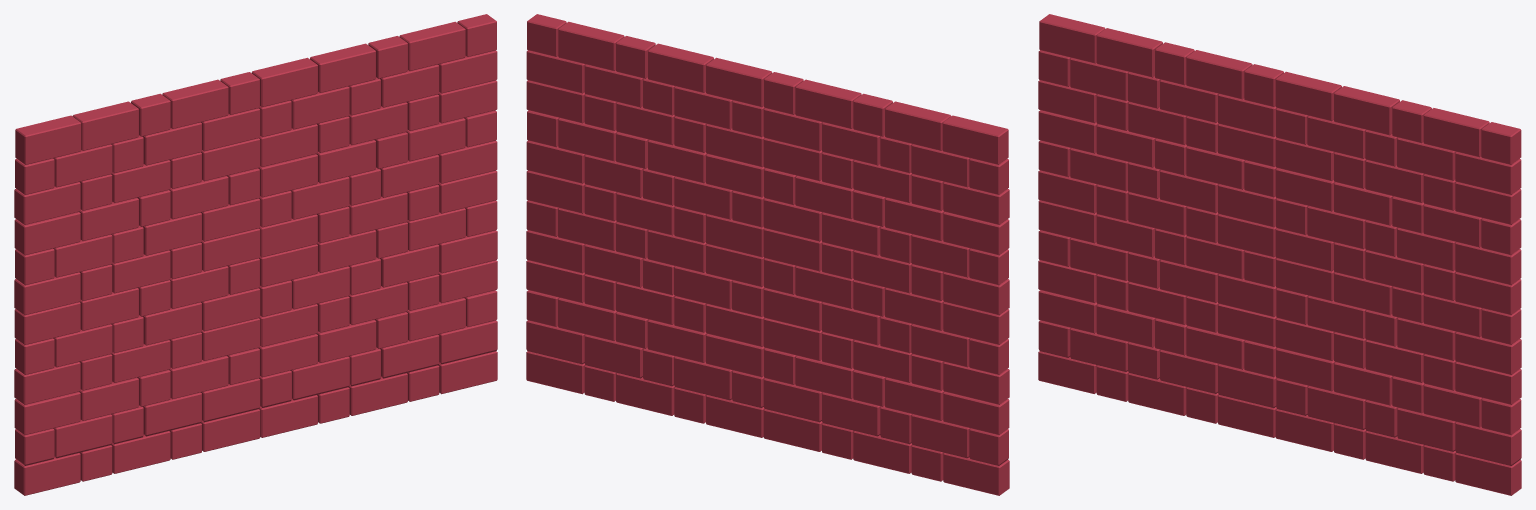
The model's file is bricks wall.fbx.
3 renders of one model, left to right at view 1: azimuth 30°, elevation 25°; view 2: azimuth 150°, elevation 25°; view 3: azimuth 330°, elevation 25°, orthographic.
Visible parts, largest first — view 1: polySurface120, polySurface105, polySurface44, polySurface45, polySurface46, polySurface104, polySurface86, polySurface115, polySurface92, polySurface98, polySurface62, polySurface68 (+108 smaller); view 2: polySurface120, polySurface105, polySurface44, polySurface45, polySurface46, polySurface104, polySurface86, polySurface115, polySurface92, polySurface98, polySurface62, polySurface68 (+108 smaller); view 3: polySurface44, polySurface45, polySurface105, polySurface104, polySurface46, polySurface120, polySurface19, polySurface49, polySurface6, polySurface36, polySurface51, polySurface34 (+108 smaller).
Boxes of the visible parts, x1,y1,x2,y2 form: polySurface120: [15, 115, 81, 164]; polySurface105: [162, 79, 228, 128]; polySurface44: [251, 57, 317, 107]; polySurface45: [310, 43, 375, 92]; polySurface46: [399, 21, 465, 70]; polySurface104: [72, 101, 138, 150]; polySurface86: [14, 392, 80, 434]; polySurface115: [14, 212, 80, 255]; polySurface92: [14, 272, 80, 315]; polySurface98: [14, 182, 80, 224]; polySurface62: [14, 453, 80, 495]; polySurface68: [14, 362, 80, 404]; polySurface120: [942, 115, 1008, 164]; polySurface105: [795, 79, 861, 128]; polySurface44: [706, 57, 772, 107]; polySurface45: [648, 43, 713, 92]; polySurface46: [558, 21, 624, 70]; polySurface104: [885, 101, 951, 150]; polySurface86: [943, 392, 1009, 434]; polySurface115: [943, 212, 1009, 255]; polySurface92: [943, 272, 1009, 315]; polySurface98: [943, 182, 1009, 224]; polySurface62: [943, 453, 1009, 495]; polySurface68: [943, 362, 1009, 404]; polySurface44: [1275, 71, 1341, 121]; polySurface45: [1334, 86, 1399, 135]; polySurface105: [1186, 50, 1252, 99]; polySurface104: [1096, 28, 1162, 77]; polySurface46: [1423, 108, 1489, 157]; polySurface120: [1039, 14, 1105, 63]; polySurface19: [1455, 422, 1521, 465]; polySurface49: [1455, 242, 1521, 285]; polySurface6: [1455, 332, 1521, 374]; polySurface36: [1455, 152, 1521, 194]; polySurface51: [1455, 272, 1521, 314]; polySurface34: [1455, 182, 1521, 224].
Size of the model in its own units: 47.41 by 34.43 by 1.8.
